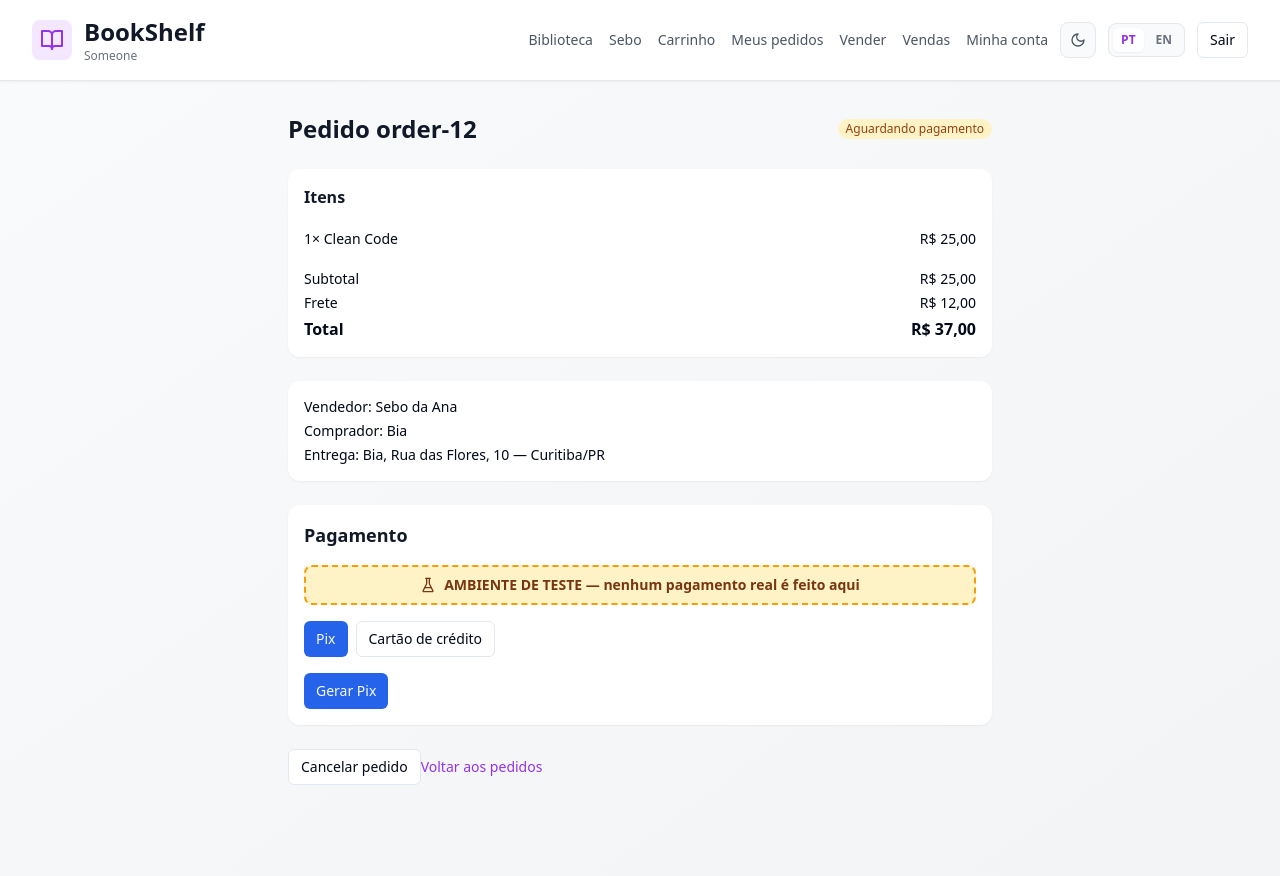
Test: OrderPage as the buyer › generates a Pix that is clearly not payable and simulates its payment
Click the button with test id "generate-pix-button" at (346, 691), box left=304, top=673, right=388, bottom=709
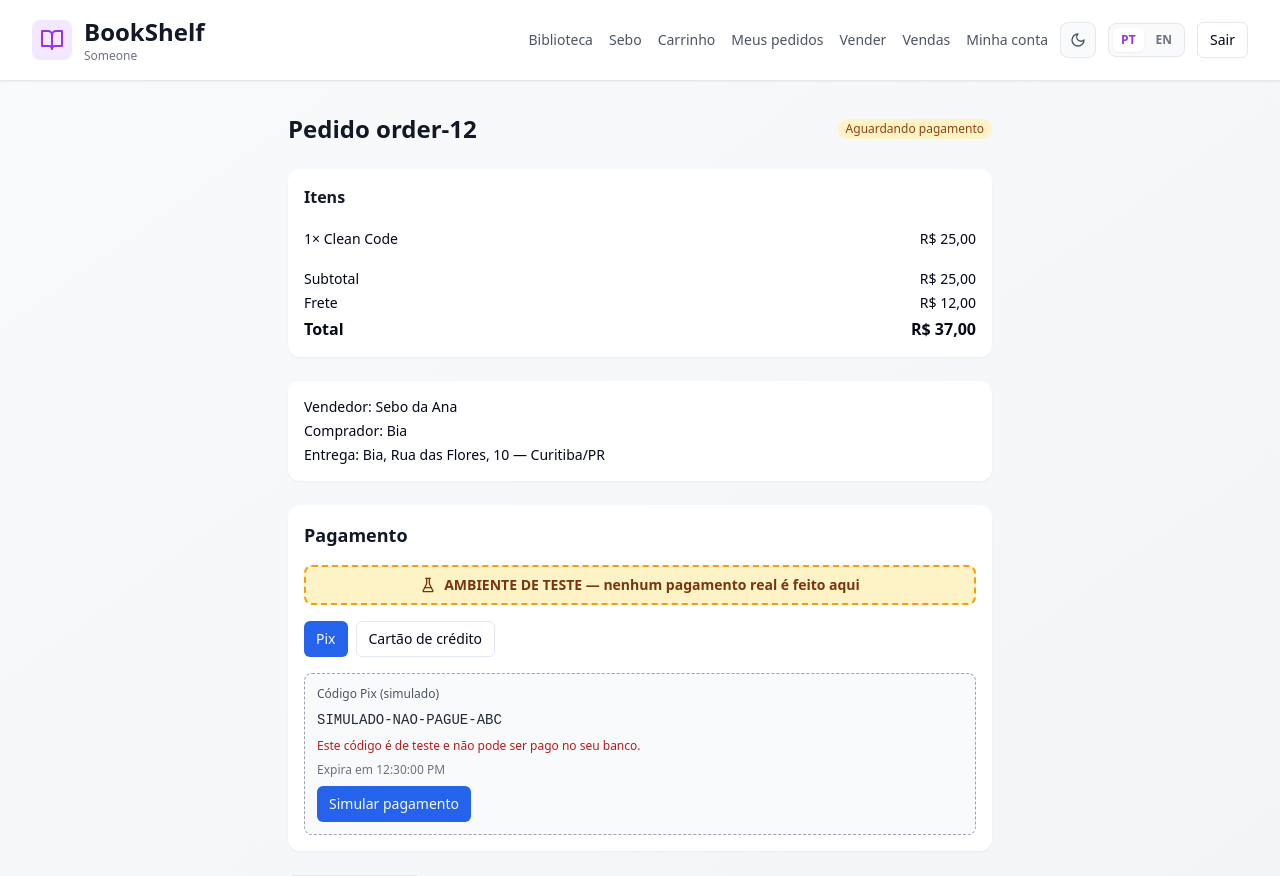
Now the text with test id "pix-code" shows "SIMULADO-NAO-PAGUE-", box left=317, top=712, right=502, bottom=728
Now the element with test id "payment-panel" shows "não pode ser pago no seu banco", box left=317, top=737, right=640, bottom=754
Click the button with test id "simulate-pix-button" at (394, 804), box left=317, top=786, right=471, bottom=822
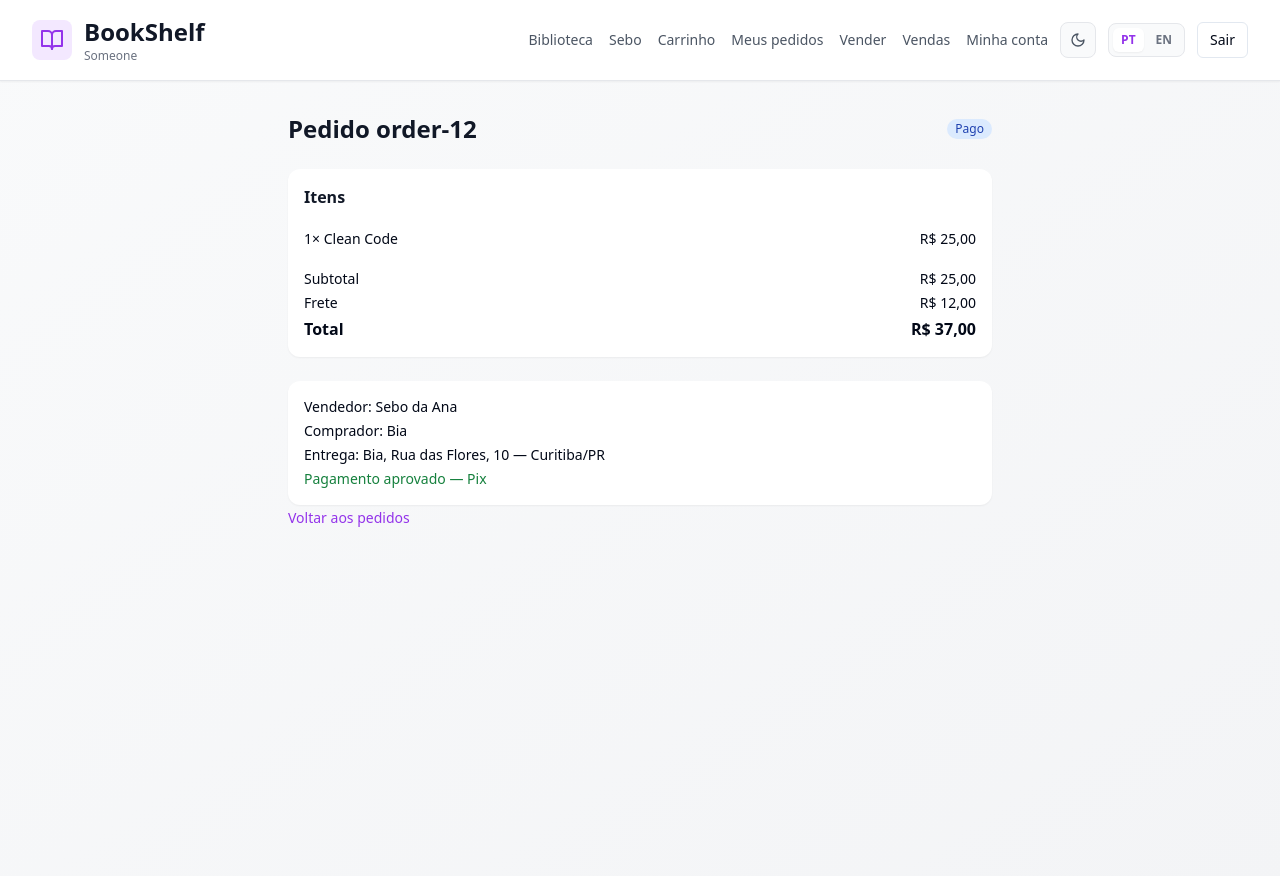
Now the text with test id "order-paid-note" shows "Pagamento aprovado", box left=304, top=469, right=446, bottom=488
Now the text with test id "order-status" reads "Pago", box left=955, top=120, right=984, bottom=137
Now the element with test id "payment-panel" is gone
